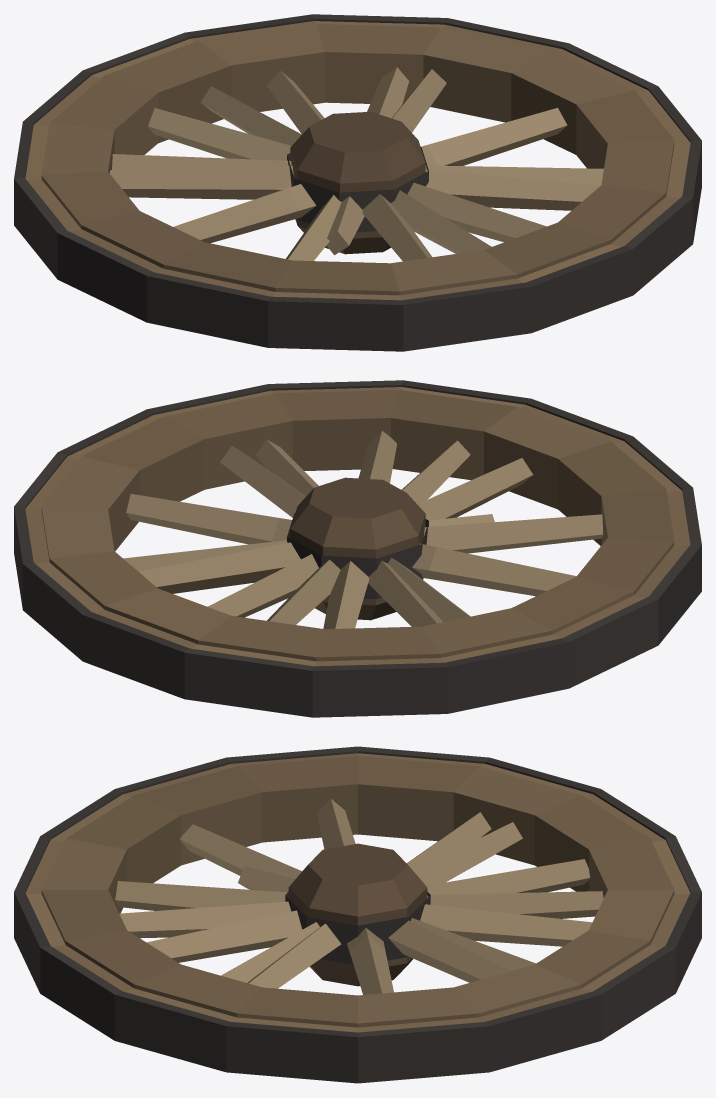
File: wagon_wheel.glb
The picture shows the model from 3 angles, top to bottom: view 1: azimuth 30°, elevation 25°; view 2: azimuth 150°, elevation 25°; view 3: azimuth 270°, elevation 25°; orthographic projection.
Parts seen in each view (by area): view 1: WheelC, WheelA; view 2: WheelC, WheelA; view 3: WheelC, WheelA.
Boxes of the visible parts, left/top/right/bottom form: WheelC: left=41, top=24, right=674, bottom=295; WheelA: left=14, top=14, right=701, bottom=351; WheelC: left=41, top=390, right=674, bottom=661; WheelA: left=14, top=380, right=701, bottom=717; WheelC: left=41, top=756, right=674, bottom=1027; WheelA: left=14, top=746, right=701, bottom=1083.
Bounding box in the file's own units: 1.24 × 0.2 × 1.24.
